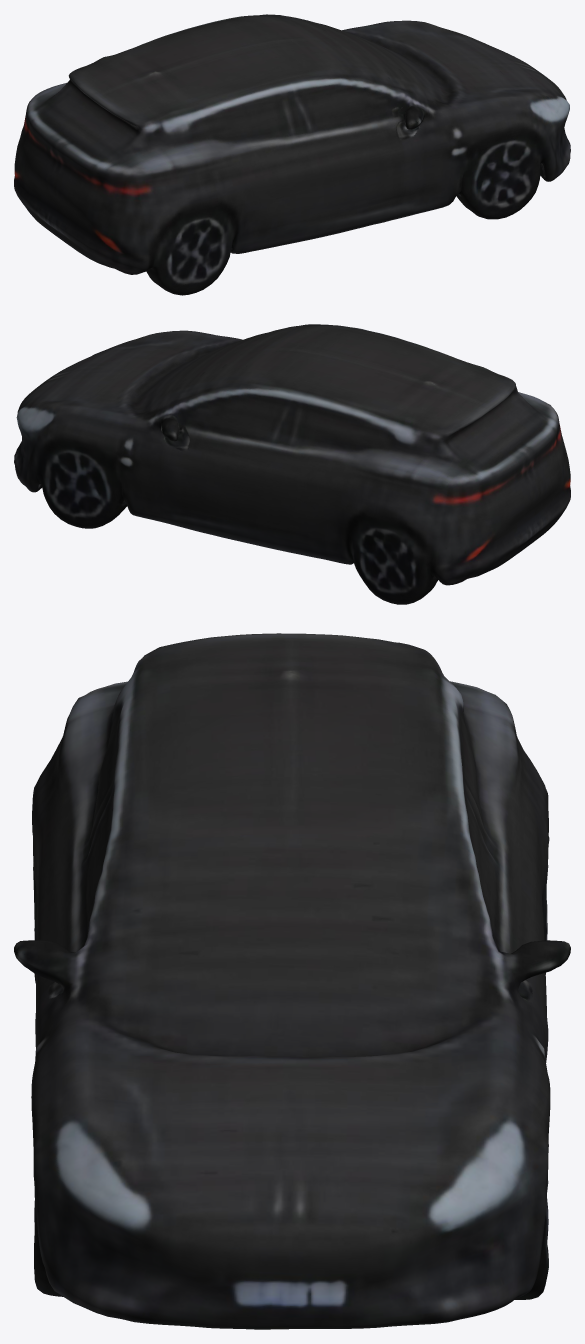
3 renders of one model, top to bottom at view 1: azimuth 30°, elevation 25°; view 2: azimuth 150°, elevation 25°; view 3: azimuth 270°, elevation 25°, orthographic. The views are drawn at different scales.
Parts seen in each view (by area): view 1: mesh; view 2: mesh; view 3: mesh.
Boxes of the visible parts, x1=… form: mesh: x1=14, y1=14, x2=570, y2=295; mesh: x1=14, y1=324, x2=570, y2=604; mesh: x1=14, y1=633, x2=570, y2=1329.
Size of the model in its own units: 0.9997 by 0.334 by 0.4909.
1 material, 1 textured.
